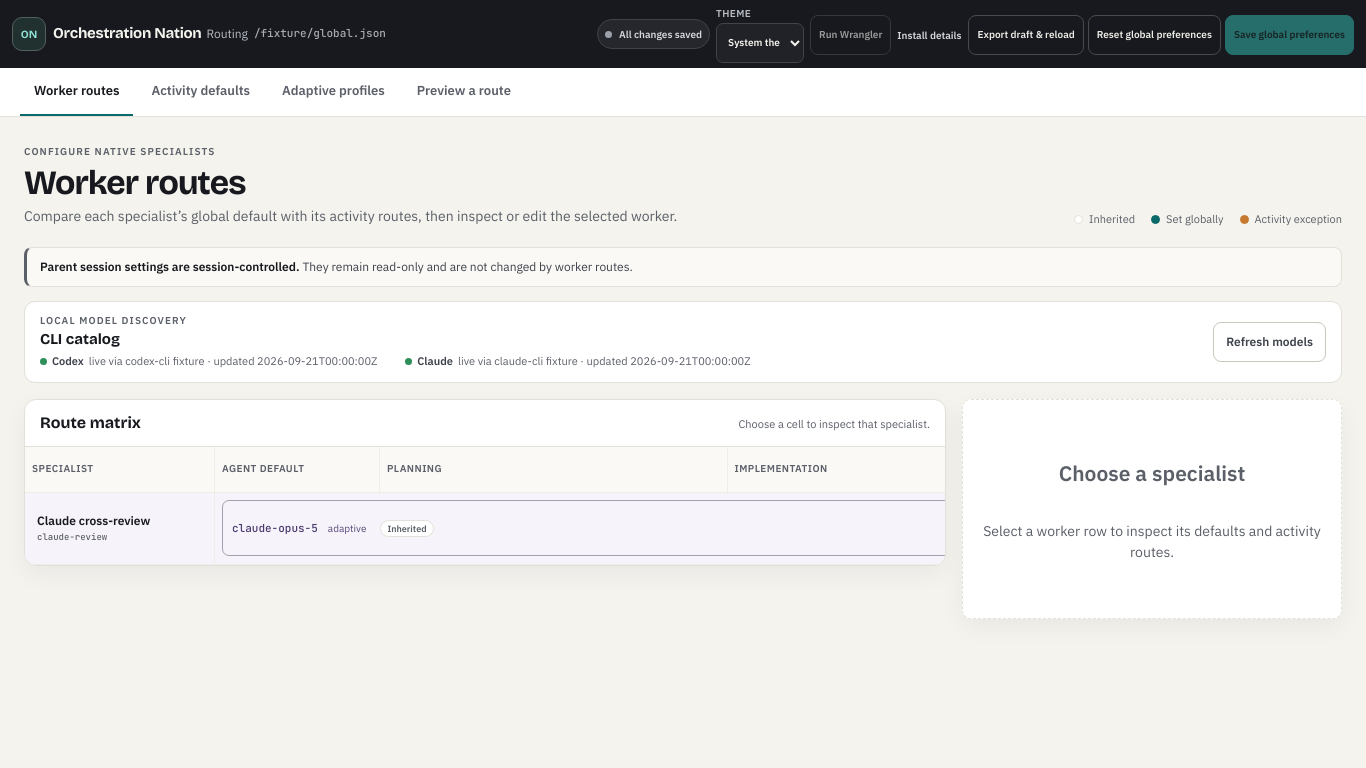
Test: local discovery controls › offers all provider models and aliases without changing the inherited selection
Click the tab "Activity defaults". click: point(201, 92)
box: [138,68,264,116]
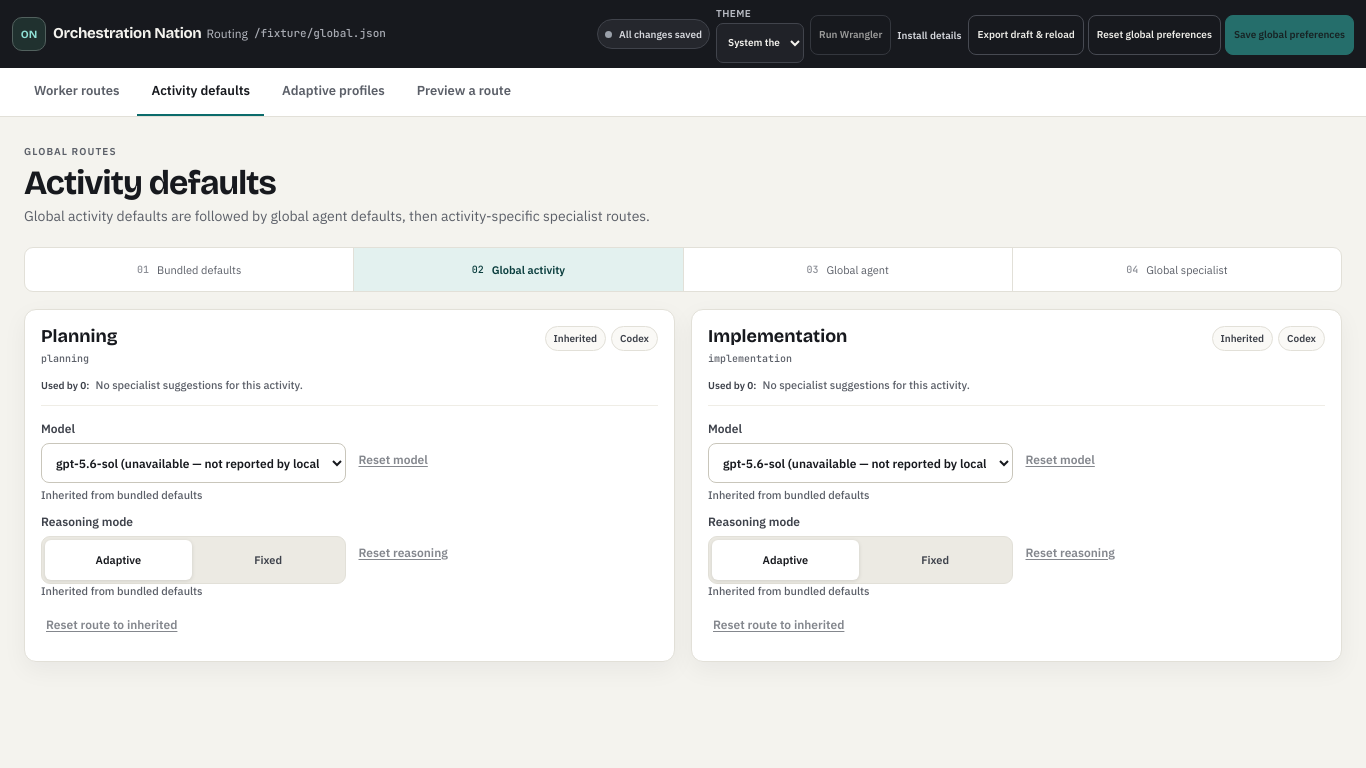
Expected: the button "Save global preferences" is disabled, [1225,15,1354,55]
Expected: the 1st dropdown labelled "Model Inherited from bundled defaults" shows "gpt-5.6-sol (unavailable — not reported by local codex CLI)", [41,443,346,483]
